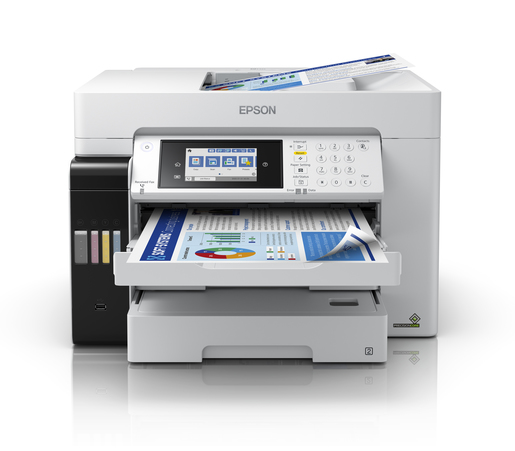printer: (55, 59, 444, 368)
